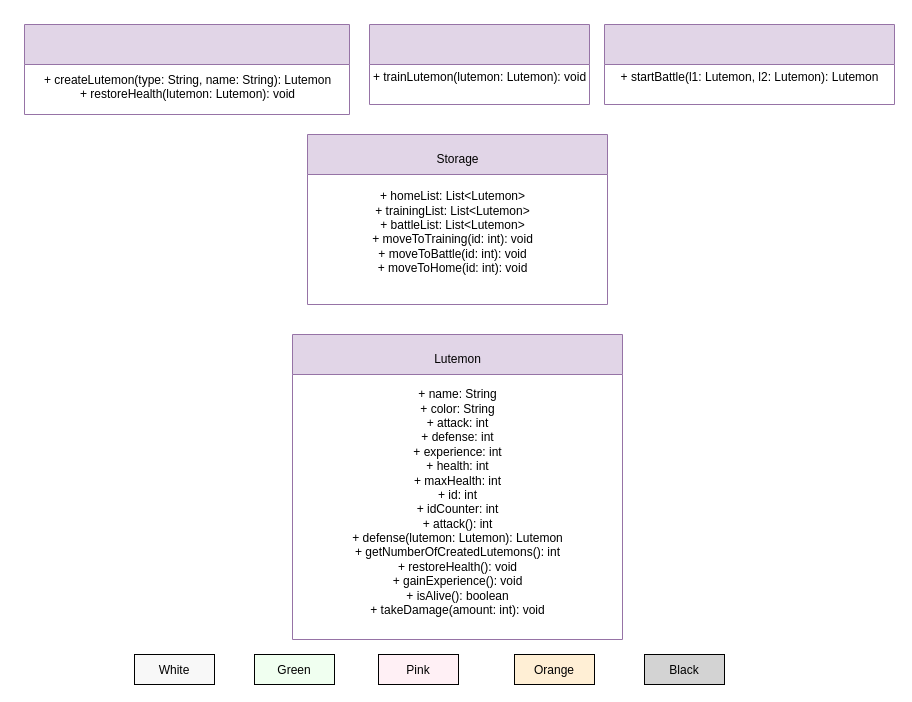
The diagram is 912 pixels wide and 702 high, and some of its shapes have lost their labels. The shapes that lost their labels are listed below. From the top down, each one's box as (x1, y1, x2, y2) in pixels, then its label:
(24, 24, 350, 114): Home
(368, 24, 590, 104): TrainingArea
(604, 24, 894, 104): BattleField
